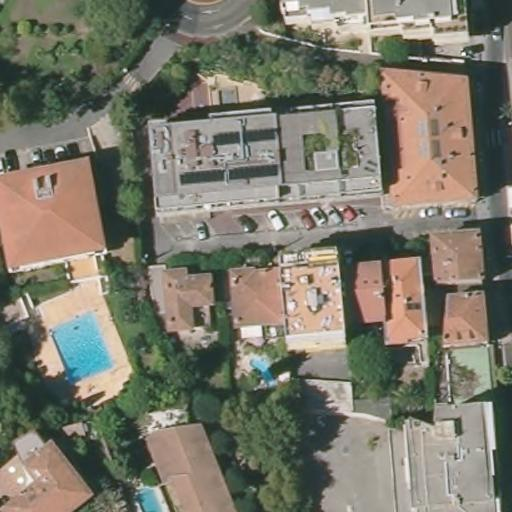pool: (54, 311, 116, 380), (248, 352, 279, 390), (129, 483, 163, 509)
